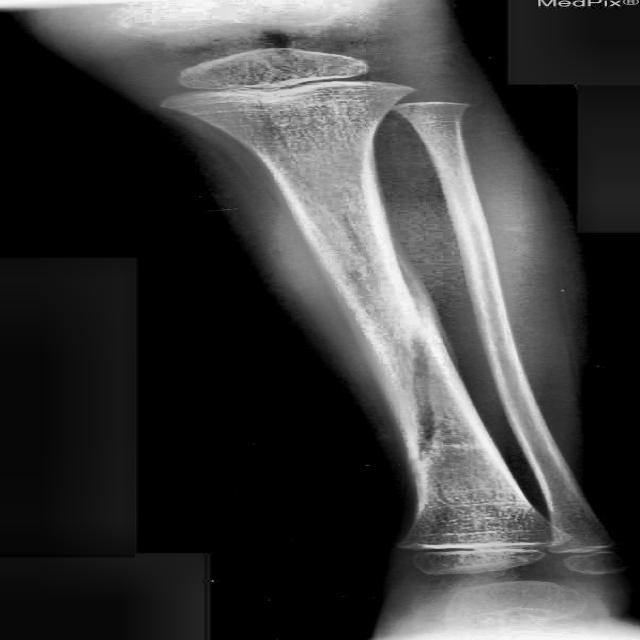line: (393, 253, 438, 461)
